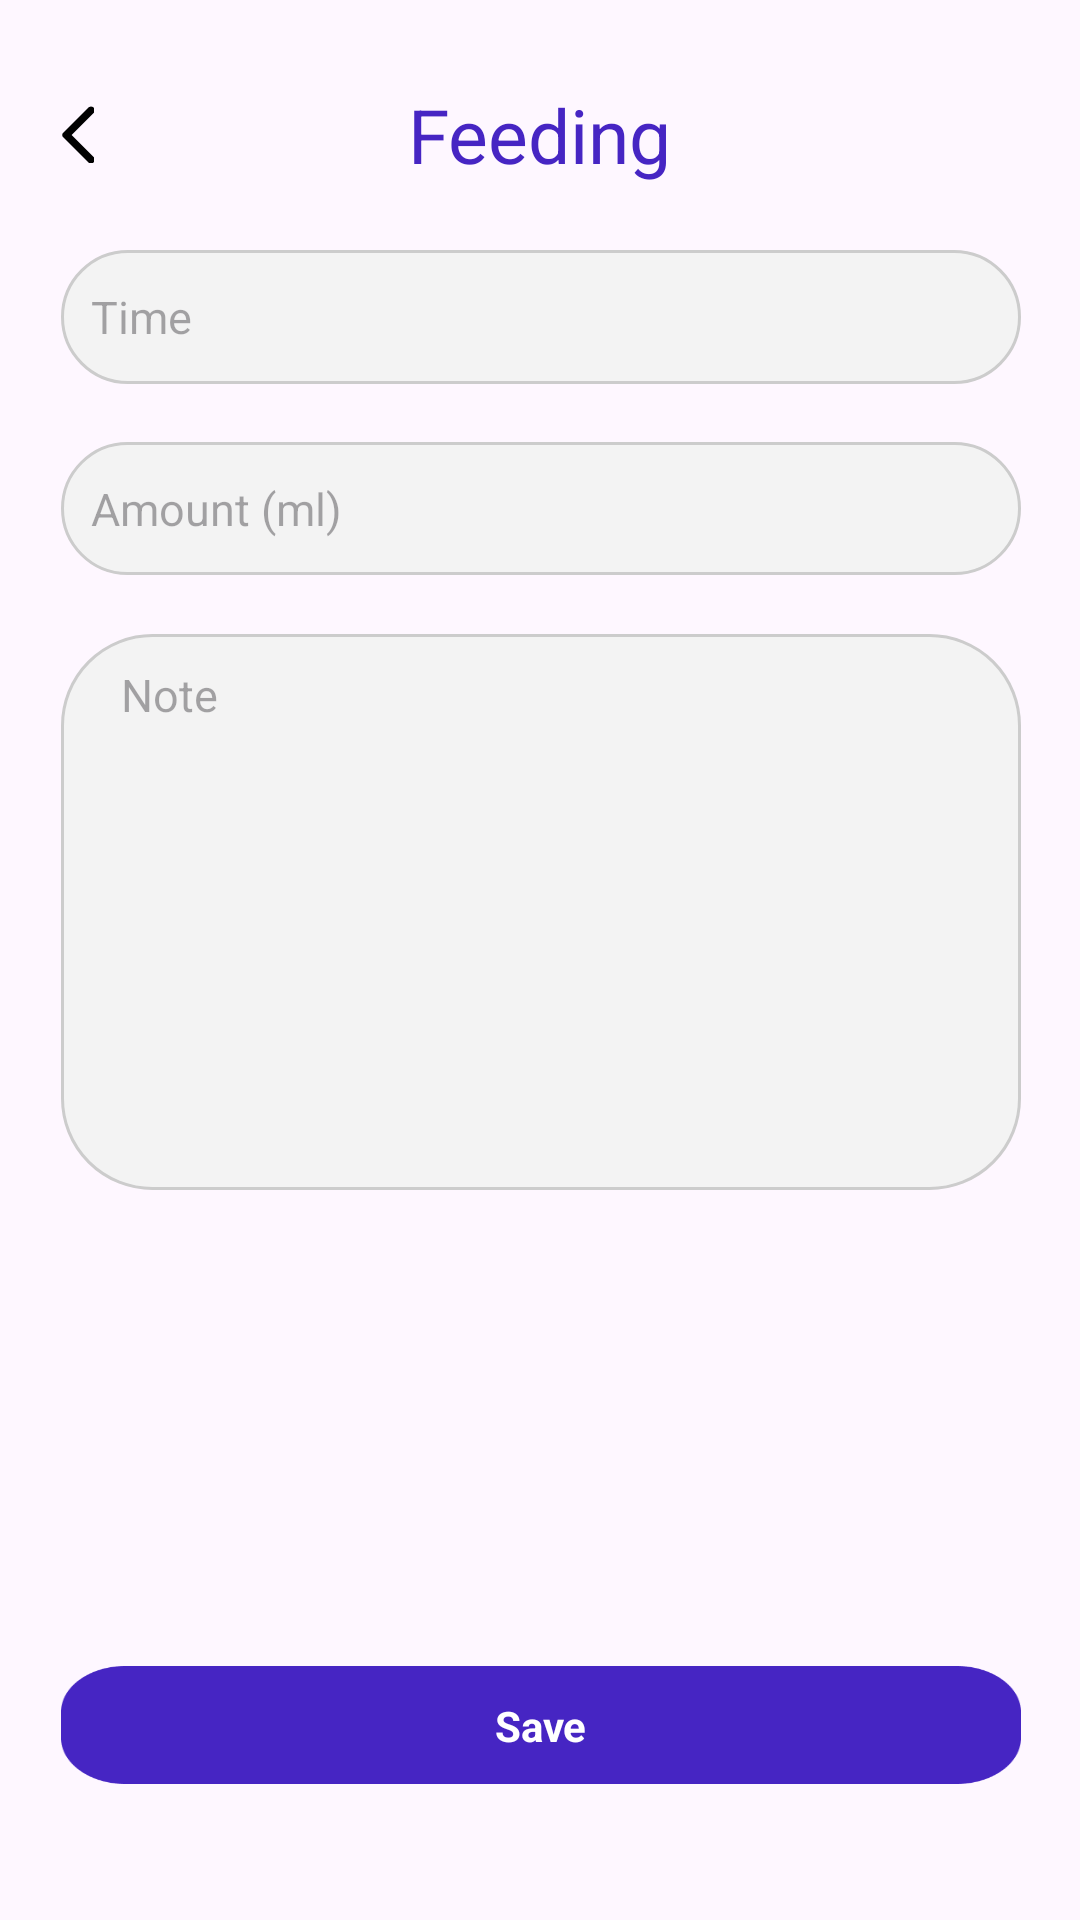

Screen size 1080px×1920px. Icon name, then its box in pixels as (x1, y1, x2, y2):
back: (62, 106, 94, 163)
